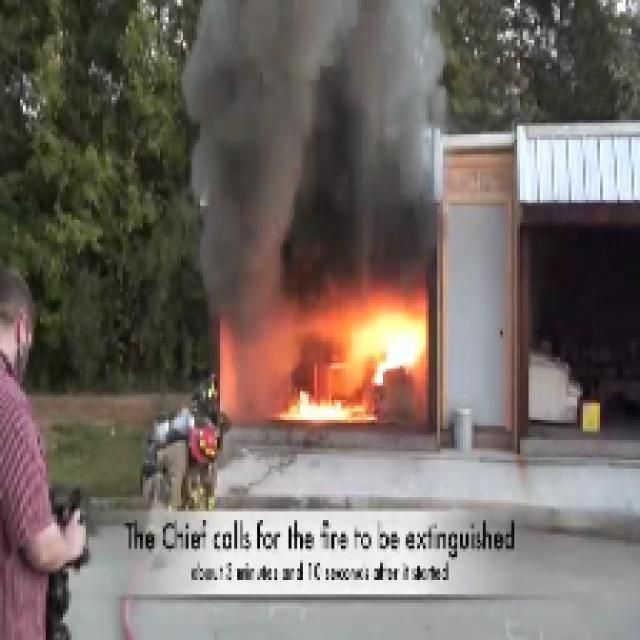Fire: (220, 285, 430, 422)
Smoke: (198, 0, 442, 327)
